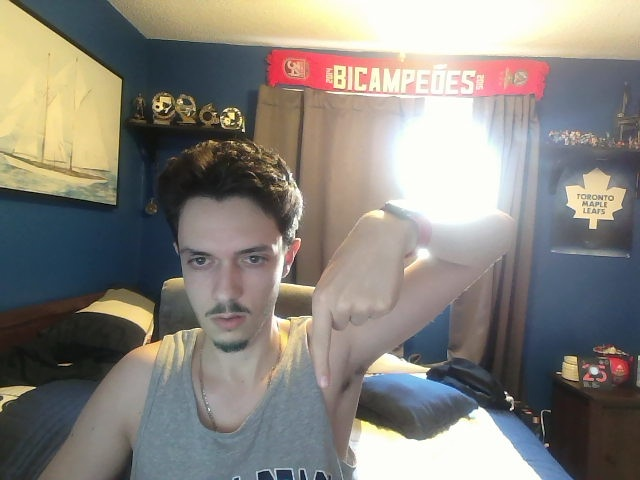Down: (310, 213, 404, 389)
